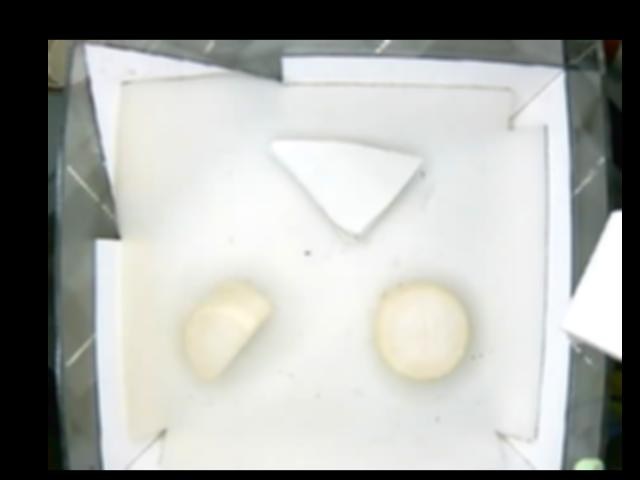China: (269, 135, 422, 241)
Mooli: (181, 276, 275, 383), (376, 278, 467, 375)
